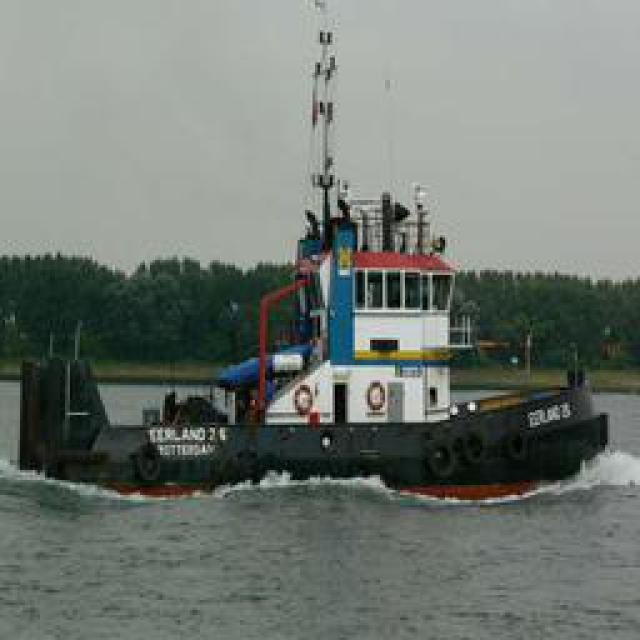Ship: (167, 27, 580, 490)
